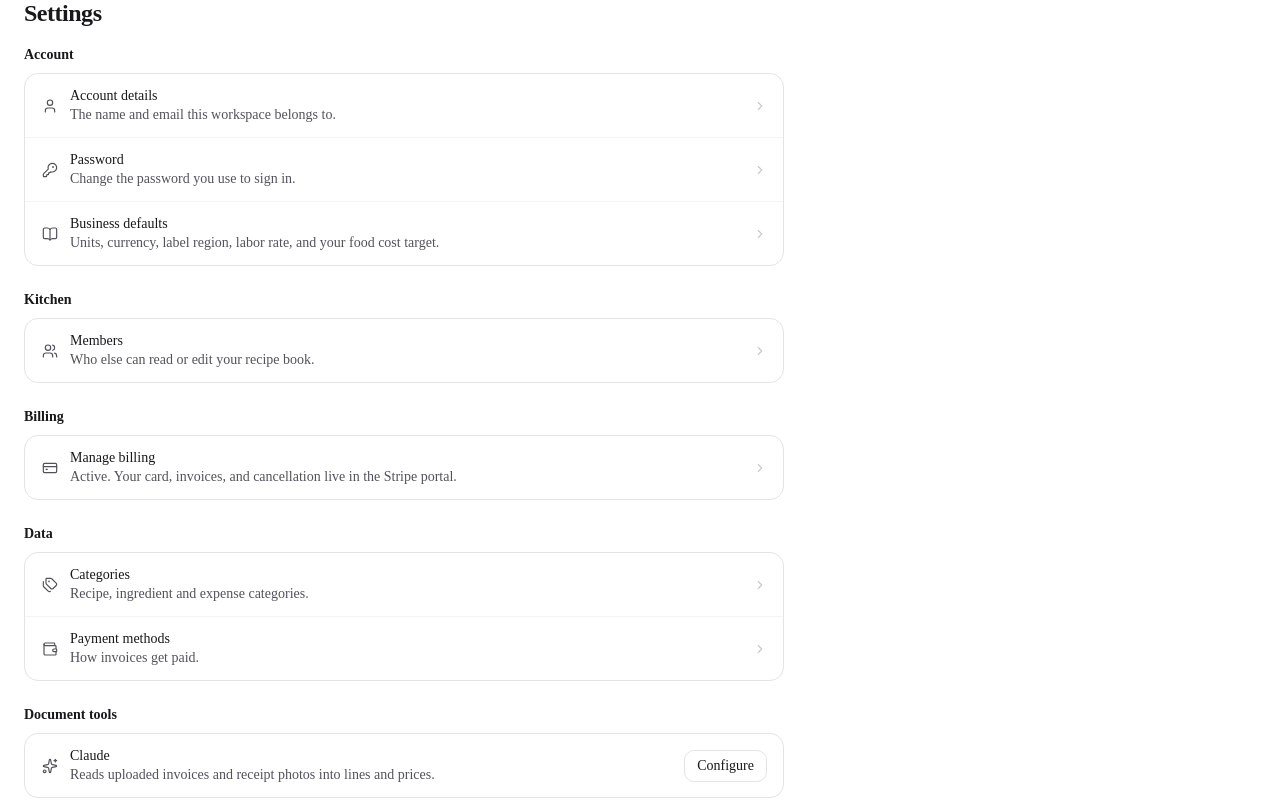
Test case: billing settings › asks which owned customer to manage when an account has more than one
The width and height of the screenshot is (1280, 800).
Click the button "Manage billing". click: (404,468)
box: left=25, top=436, right=783, bottom=499
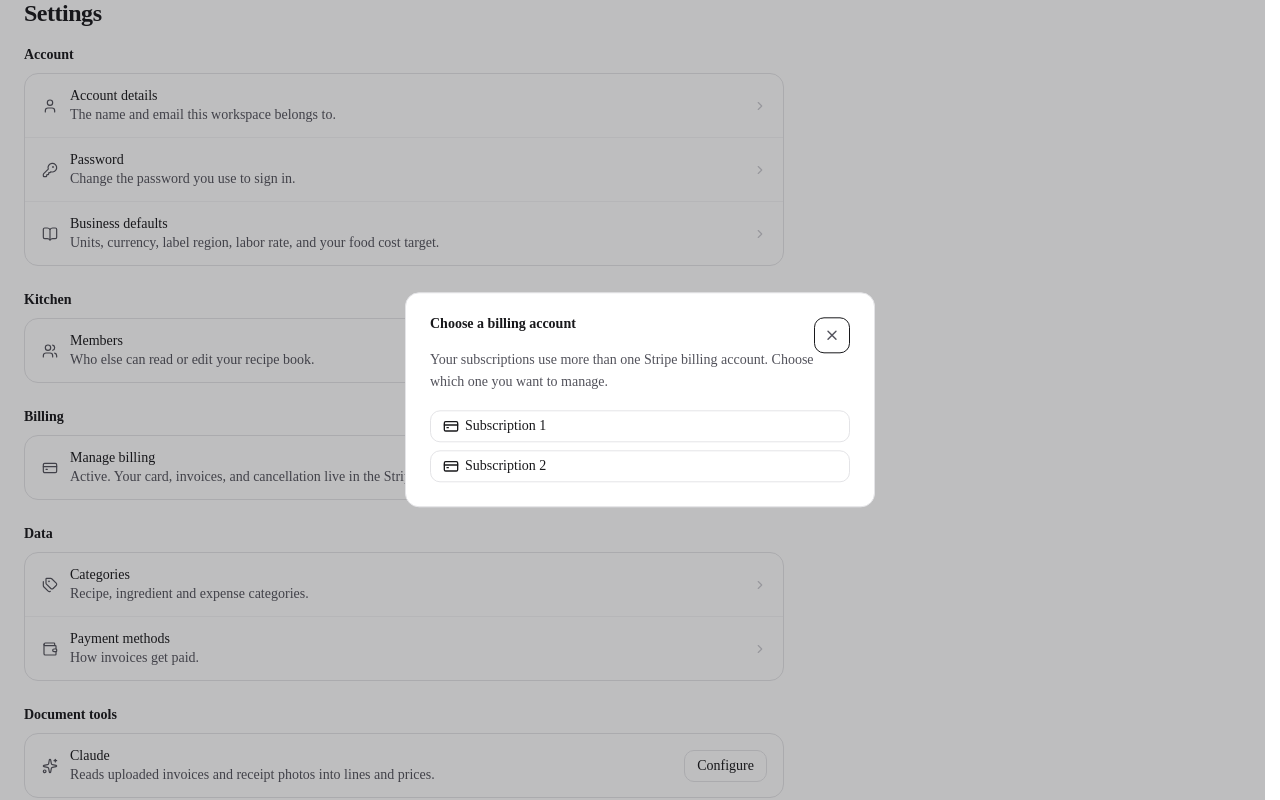
Expected: the heading "Choose a billing account" is shown, left=430, top=316, right=576, bottom=331
Expected: the button "Subscription 2" is enabled
Click the button "Subscription 2". click: (506,466)
box: left=430, top=451, right=850, bottom=483
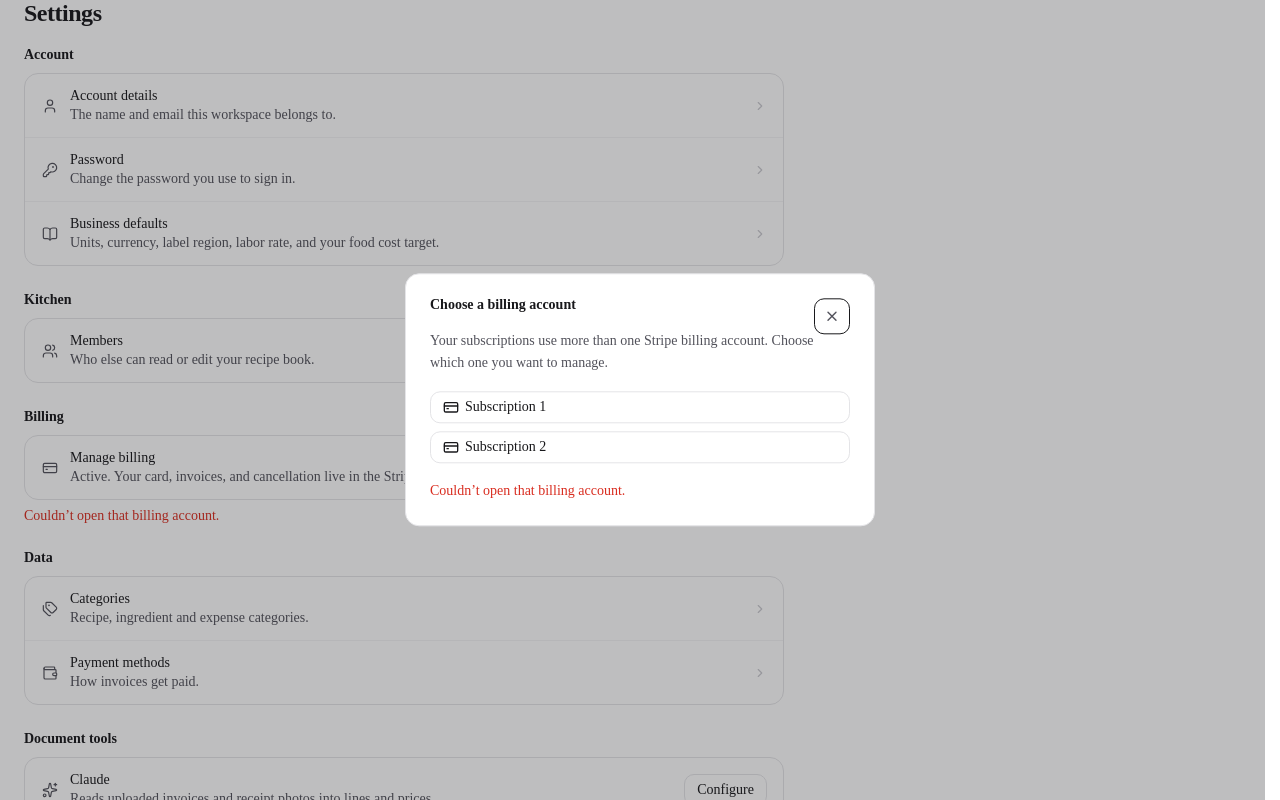
Expected: the message reads "Couldn’t open that billing account.", left=430, top=484, right=625, bottom=499
